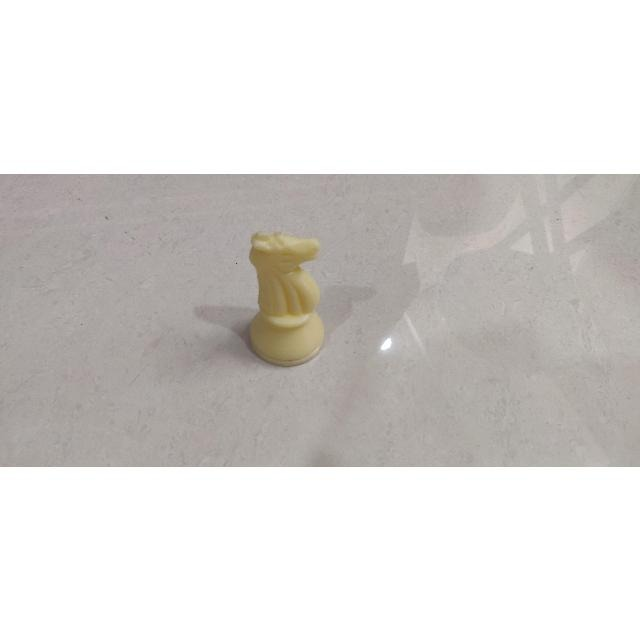white-knight: (242, 226, 330, 371)
